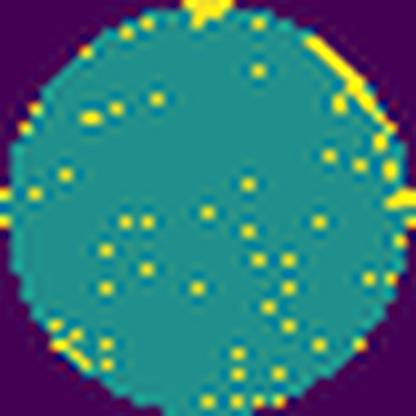Edge-Loc: (179, 0, 240, 29)
